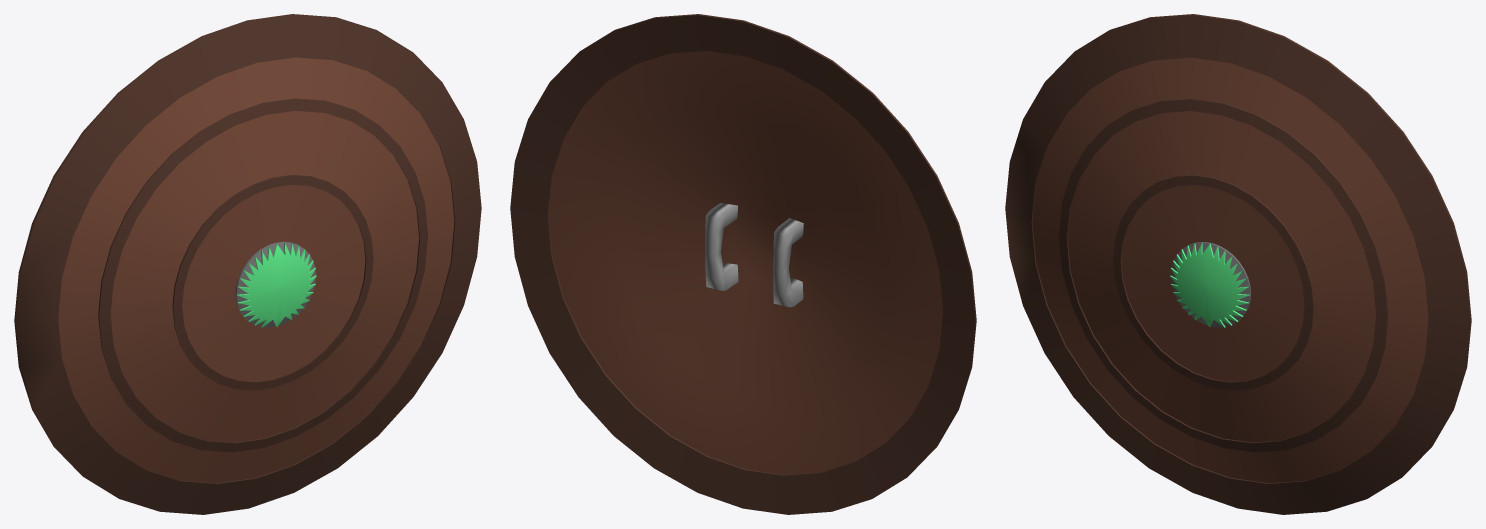
The model's file is shieldrunic.fbx.
3 views of the same model, side by side, from view 1: azimuth 30°, elevation 25°; view 2: azimuth 150°, elevation 25°; view 3: azimuth 330°, elevation 25° (orthographic).
Visible parts, largest first — view 1: Shield; view 2: Shield, Hands; view 3: Shield.
Part boxes in pixels (x1,y1,x2,y2): Shield: (14,14,481,514); Shield: (510,14,976,514); Hands: (705,203,803,307); Shield: (1005,14,1471,514).
Size of the model in its own units: 124 by 124 by 15.21.
